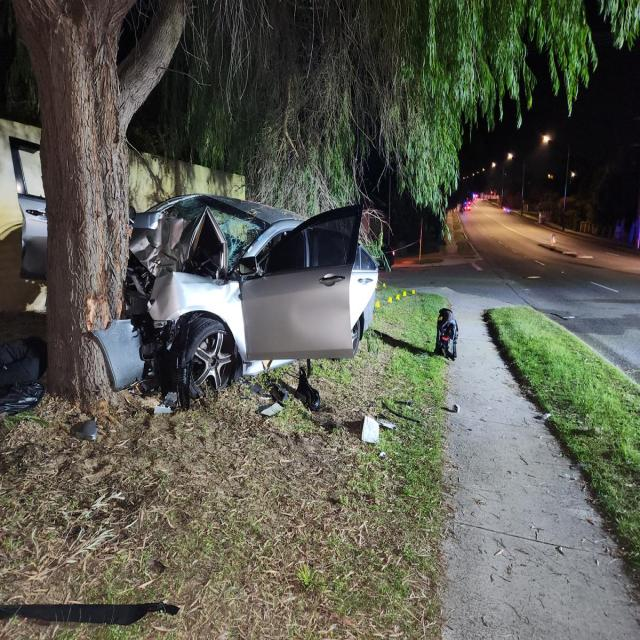Accident: (9, 135, 399, 405)
